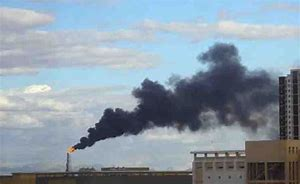smoke: (73, 40, 273, 150)
